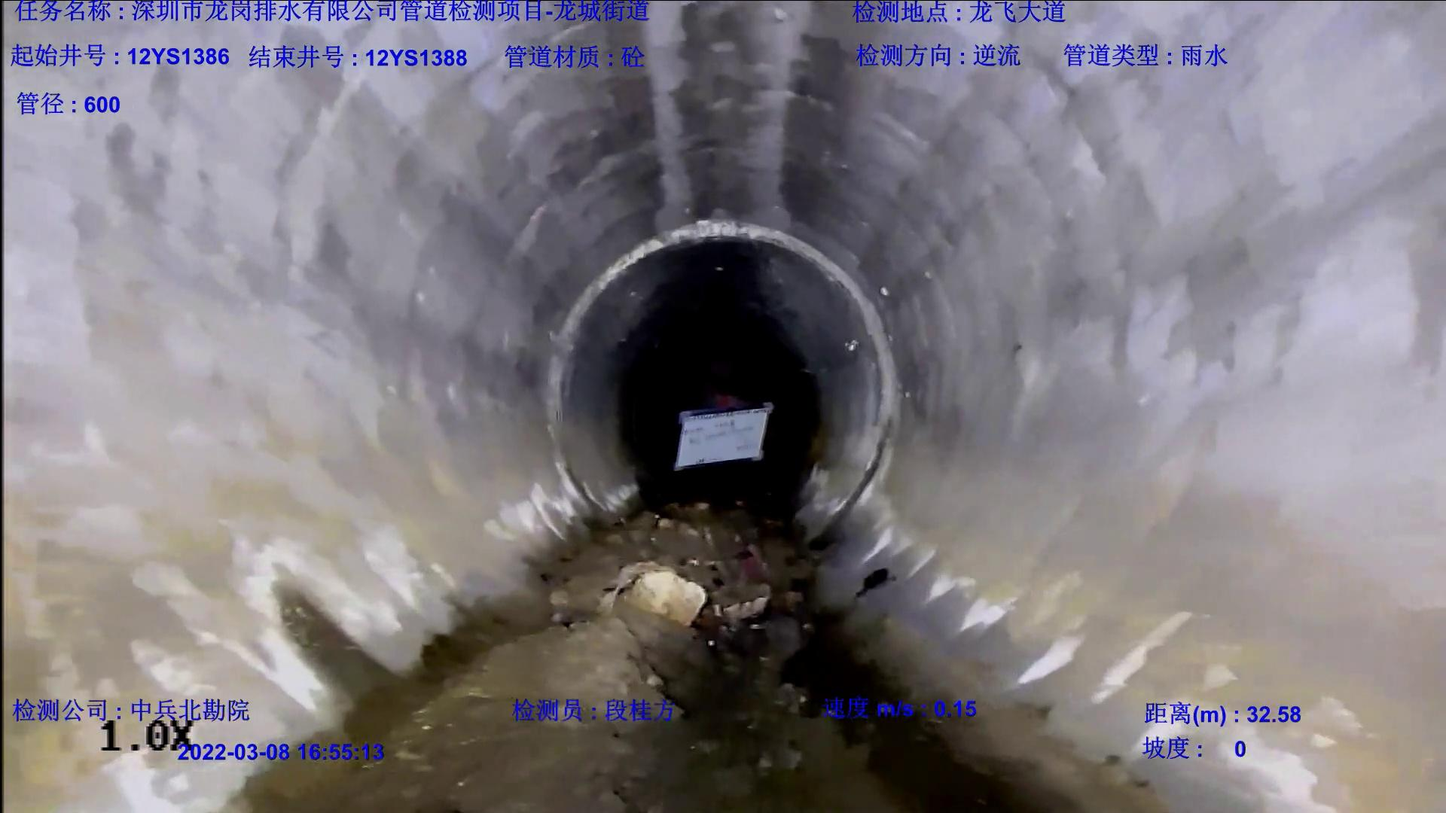CJ: (250, 489, 949, 812)
CKTJ: (548, 219, 900, 526)
